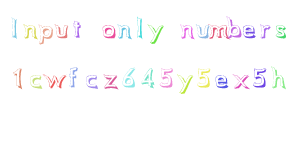1: (7, 66, 29, 91)
4: (139, 64, 159, 93)
5: (194, 63, 214, 91), (156, 63, 175, 91), (250, 62, 268, 91)
6: (119, 61, 139, 90)
I: (6, 13, 27, 42)
b: (226, 11, 242, 41)
c: (82, 71, 102, 93), (27, 72, 43, 90)
e: (211, 69, 230, 93), (241, 19, 258, 41)
f: (65, 62, 83, 91)
h: (268, 62, 291, 95)
l: (133, 14, 146, 40)
m: (207, 23, 230, 42)
n: (176, 19, 195, 44), (22, 20, 38, 44), (117, 21, 133, 42)
o: (98, 23, 117, 42)
p: (38, 22, 54, 47)
r: (257, 21, 273, 41)
s: (272, 21, 291, 42)
t: (70, 14, 86, 42)
u: (54, 18, 69, 42), (195, 22, 211, 42)
w: (42, 72, 67, 93)
x: (230, 68, 252, 94)
y: (145, 21, 168, 46), (175, 71, 195, 96)
z: (100, 71, 121, 94)
